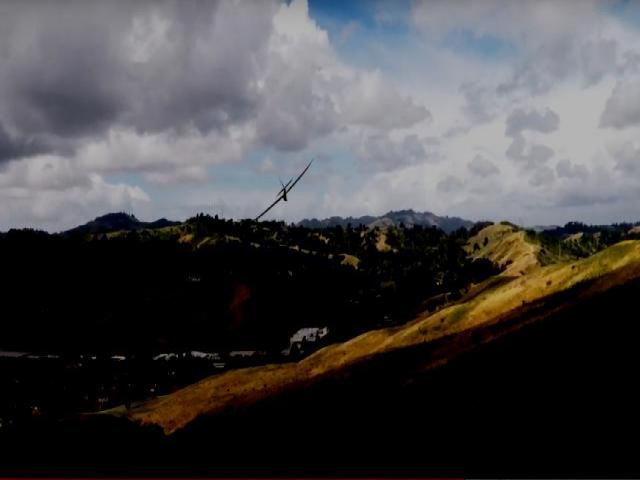iha: (244, 160, 313, 223)
